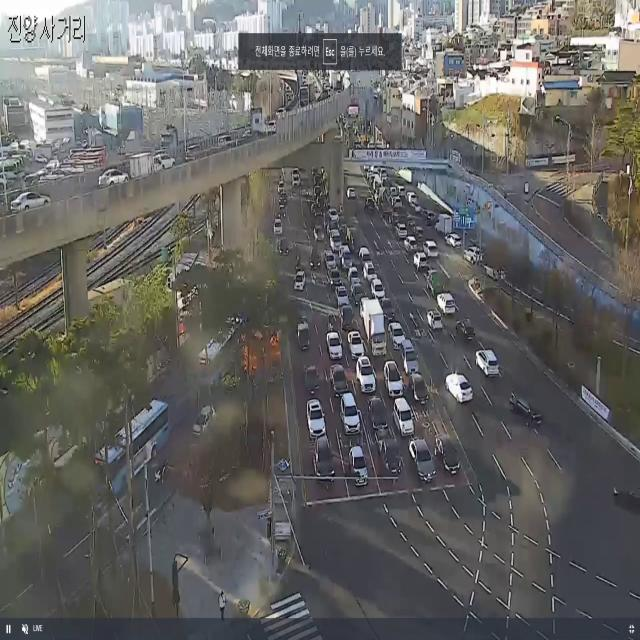bus: (294, 252, 303, 274), (328, 312, 336, 332)
car: (96, 397, 175, 491), (194, 303, 251, 400)
motorcycle: (507, 404, 565, 434), (407, 440, 436, 494), (446, 372, 482, 412), (92, 166, 132, 200), (434, 433, 462, 481), (9, 184, 42, 224), (338, 393, 362, 448), (304, 353, 328, 404), (471, 348, 502, 387), (487, 251, 514, 294), (612, 479, 640, 520), (312, 436, 337, 479), (390, 395, 417, 433), (190, 406, 217, 442), (454, 316, 480, 351), (305, 397, 326, 438), (400, 335, 417, 380), (428, 307, 452, 338), (358, 358, 377, 397), (411, 372, 428, 408), (349, 449, 361, 495), (366, 393, 385, 422), (382, 364, 400, 392), (388, 314, 404, 344), (339, 310, 357, 336), (329, 368, 348, 392), (469, 248, 487, 272), (412, 252, 431, 274), (348, 332, 366, 354), (423, 238, 439, 262), (329, 332, 345, 355), (309, 240, 321, 270), (158, 156, 180, 172), (352, 284, 368, 306), (341, 246, 354, 272), (298, 313, 310, 340), (329, 264, 339, 296), (333, 285, 349, 304), (295, 274, 308, 296), (323, 250, 334, 276), (371, 278, 382, 300), (367, 258, 376, 284), (438, 295, 456, 307), (452, 233, 464, 248), (348, 268, 358, 286), (330, 231, 340, 248), (363, 246, 371, 259)
truck: (375, 427, 400, 487), (422, 260, 451, 305), (362, 304, 387, 353), (130, 150, 158, 185), (435, 214, 451, 232)
